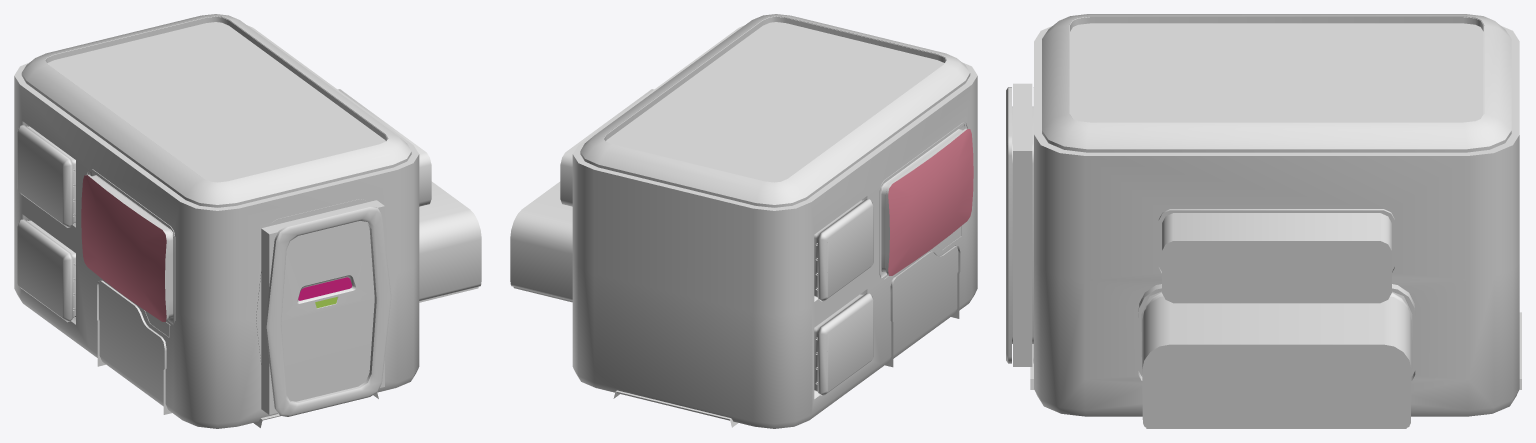
File: DormRoom.fbx
3 views of the same model, side by side, from view 1: azimuth 30°, elevation 25°; view 2: azimuth 150°, elevation 25°; view 3: azimuth 270°, elevation 25° (orthographic). The views are drawn at different scales.
Visible parts, largest first — view 1: wallslp, dormdoorlp, dormframelp, ventlp.001, Screenlp.001, bedcublp, Screenlp, nightstandlp; view 2: wallslp, ventlp.001, Screenlp.001, bedcublp, Screenlp, nightstandlp; view 3: wallslp, bedcublp, dormframelp.
Part boxes in pixels (left/top/right/bottom): wallslp: left=14, top=14, right=419, bottom=428; dormdoorlp: left=281, top=221, right=374, bottom=401; dormframelp: left=256, top=199, right=391, bottom=416; ventlp.001: left=17, top=121, right=75, bottom=324; Screenlp.001: left=81, top=175, right=166, bottom=321; bedcublp: left=338, top=89, right=481, bottom=302; Screenlp: left=85, top=169, right=175, bottom=337; nightstandlp: left=97, top=280, right=171, bottom=414; wallslp: left=572, top=14, right=977, bottom=428; ventlp.001: left=814, top=196, right=873, bottom=398; Screenlp.001: left=888, top=129, right=973, bottom=275; bedcublp: left=510, top=89, right=653, bottom=302; Screenlp: left=879, top=122, right=968, bottom=279; nightstandlp: left=885, top=245, right=960, bottom=367; wallslp: left=1030, top=14, right=1521, bottom=416; bedcublp: left=1138, top=209, right=1415, bottom=428; dormframelp: left=1006, top=83, right=1033, bottom=366.
Size of the model in its own units: 415 by 280 by 457.
